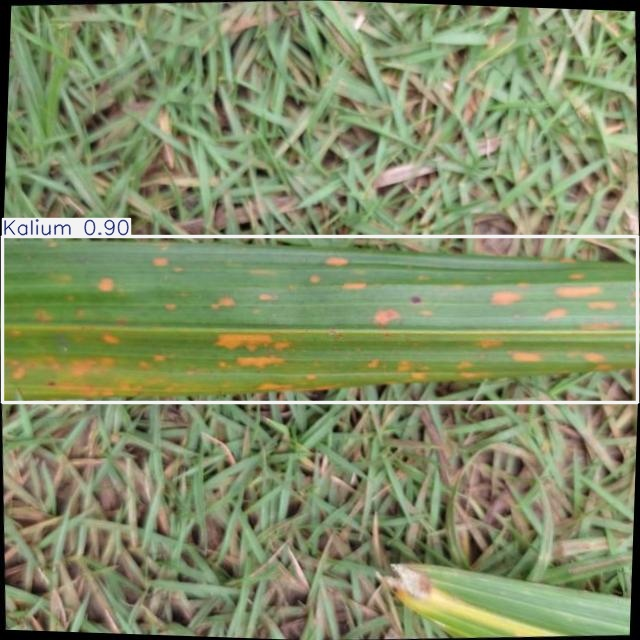Kalium: (2, 236, 637, 402)
